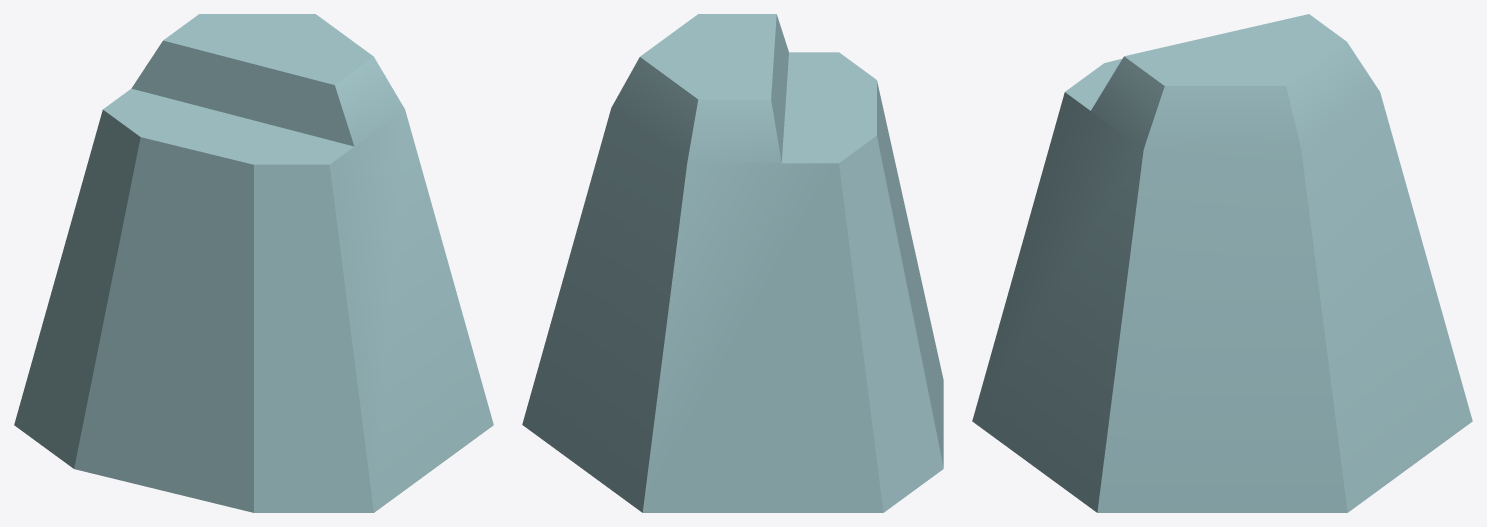
Rendered from stone_tall5.fbx.
3 renders of one model, left to right at view 1: azimuth 30°, elevation 25°; view 2: azimuth 150°, elevation 25°; view 3: azimuth 270°, elevation 25°, orthographic. The views are drawn at different scales.
Parts seen in each view (by area): view 1: stone_tall5; view 2: stone_tall5; view 3: stone_tall5.
Boxes of the visible parts, bbox=[...] form: stone_tall5: bbox=[14, 14, 493, 512]; stone_tall5: bbox=[522, 14, 943, 512]; stone_tall5: bbox=[972, 14, 1472, 512].
Bounding box in the file's own units: 4.56 × 4.44 × 5.27.
